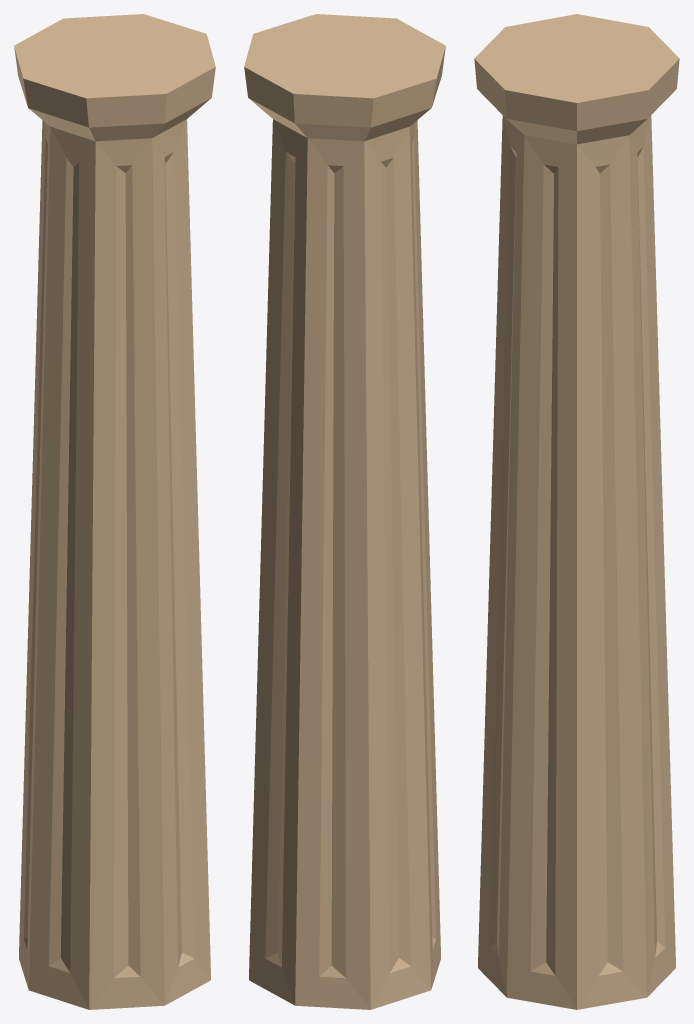
The model's file is roman-pillar-doric-big.glb.
3 views of the same model, side by side, from view 1: azimuth 30°, elevation 25°; view 2: azimuth 150°, elevation 25°; view 3: azimuth 270°, elevation 25° (orthographic).
Visible parts, largest first — view 1: pillar-doric-big; view 2: pillar-doric-big; view 3: pillar-doric-big.
Boxes of the visible parts, x1,y1,x2,y2 form: pillar-doric-big: (14,14,215,1009); pillar-doric-big: (244,14,445,1009); pillar-doric-big: (474,14,679,1009).
Size of the model in its own units: 2.11 by 10.02 by 2.05.
